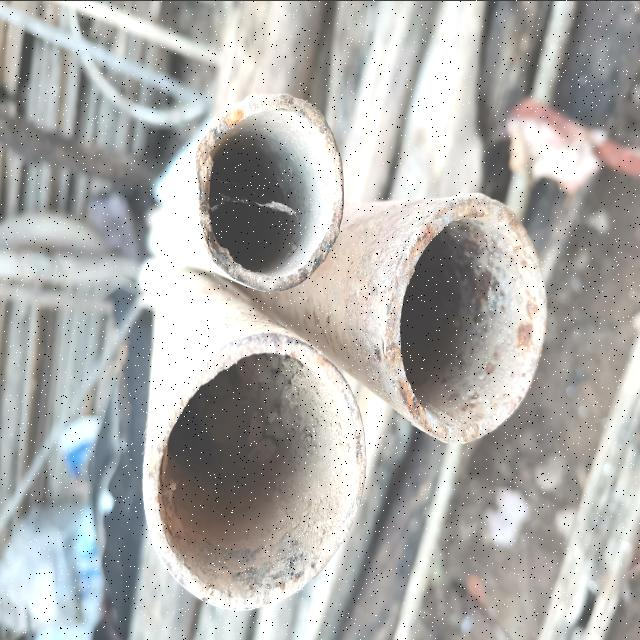pipe: (146, 330, 370, 610), (384, 192, 550, 446), (195, 90, 347, 290)
